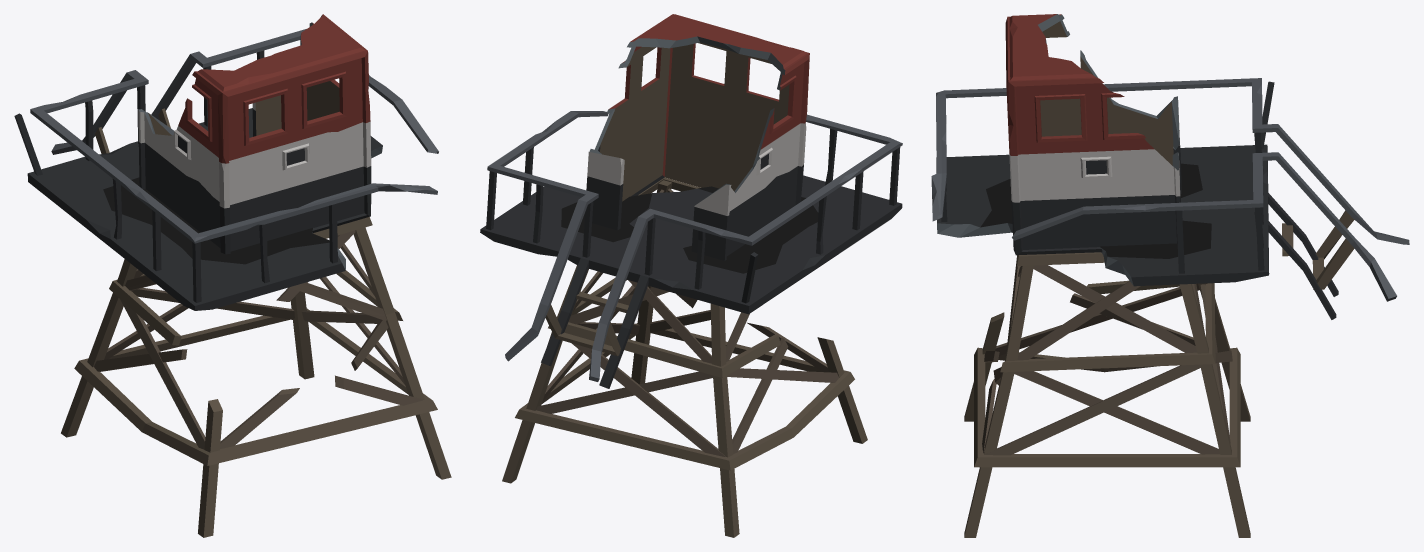
The model's file is SM_Bld_GuardTower_Destroyed_02.fbx.
3 renders of one model, left to right at view 1: azimuth 30°, elevation 25°; view 2: azimuth 150°, elevation 25°; view 3: azimuth 270°, elevation 25°, orthographic. The views are drawn at different scales.
Visible parts, largest first — view 1: SM_Bld_GuardTower_Destroyed_02; view 2: SM_Bld_GuardTower_Destroyed_02; view 3: SM_Bld_GuardTower_Destroyed_02.
Part boxes in pixels (<box>): SM_Bld_GuardTower_Destroyed_02: <box>14,14,451,537</box>; SM_Bld_GuardTower_Destroyed_02: <box>480,14,902,537</box>; SM_Bld_GuardTower_Destroyed_02: <box>931,14,1409,537</box>.
Size of the model in its own units: 412 by 569 by 571.
